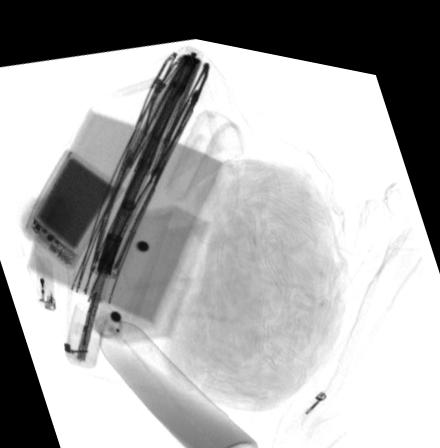Lighter: (34, 252, 56, 310)
Powerbank: (22, 146, 125, 268)
Sprayer: (85, 302, 257, 448)
